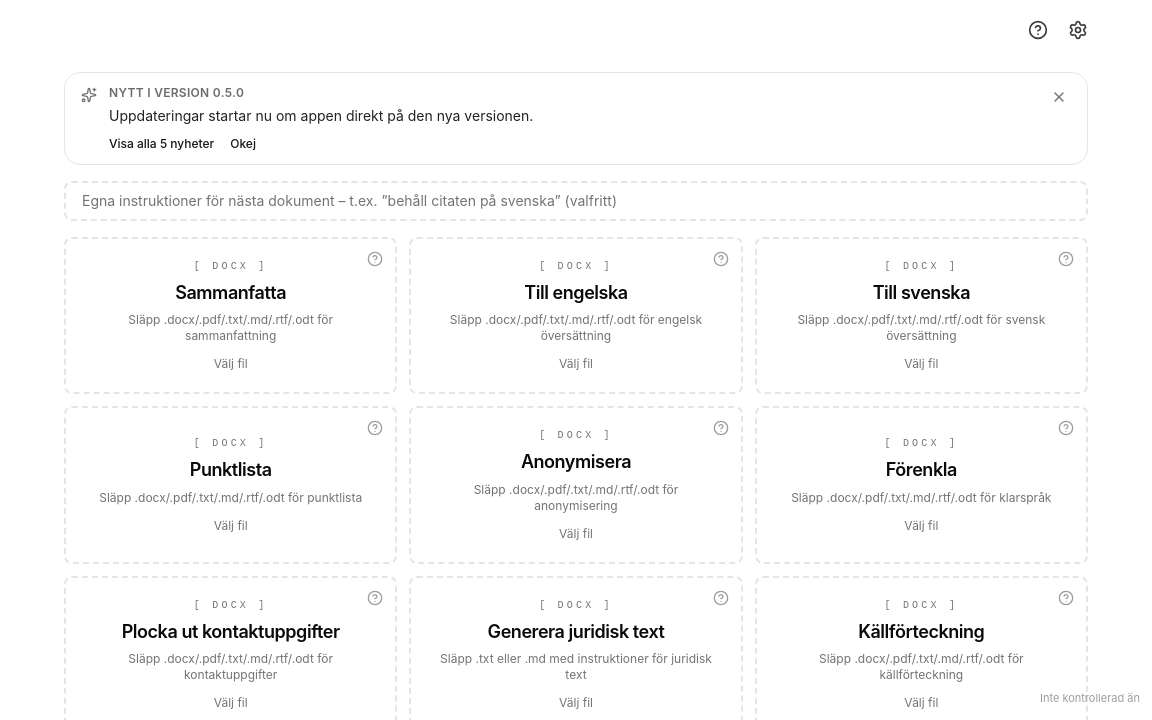
Scenario: help system layout (FR-017 / SC-010 / SC-001) › keeps the settings gear present, enabled and clickable
Step 1. Click the button named "Inställningar" → {"x": 1078, "y": 30}, box [1060,12,1096,48]
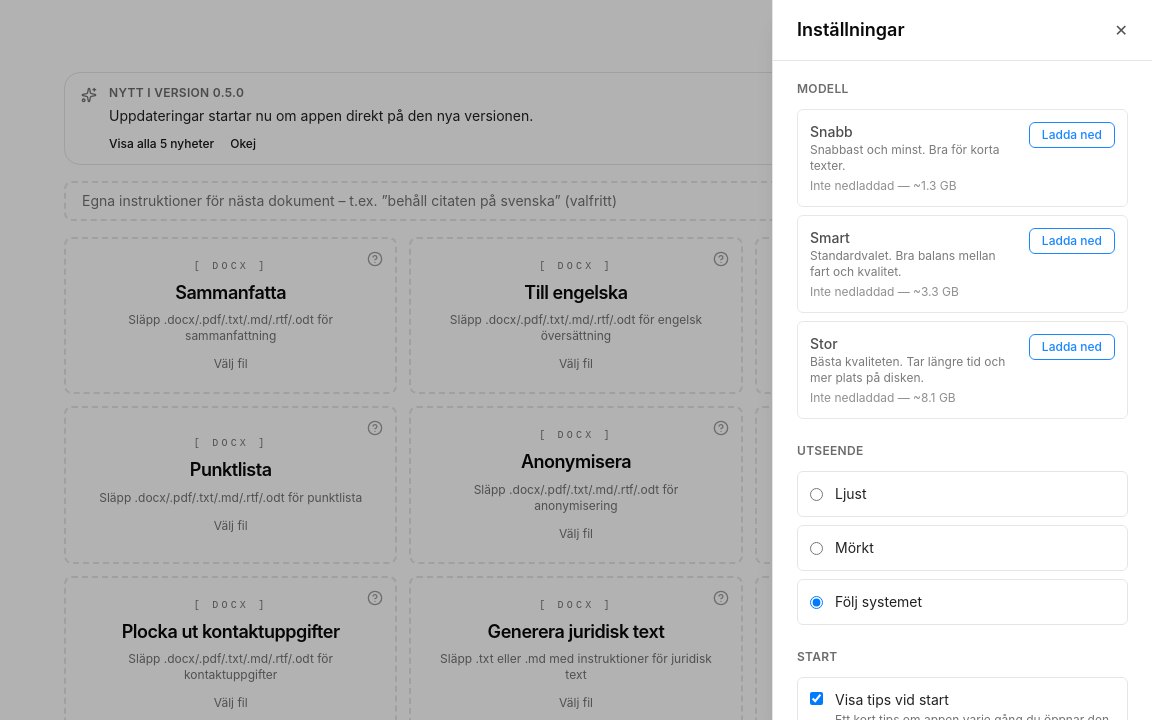
Now the dialog is shown
